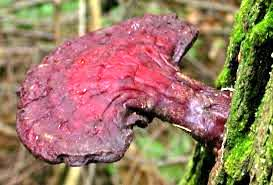Ganoderma - Fruit Body: (18, 15, 201, 168)
